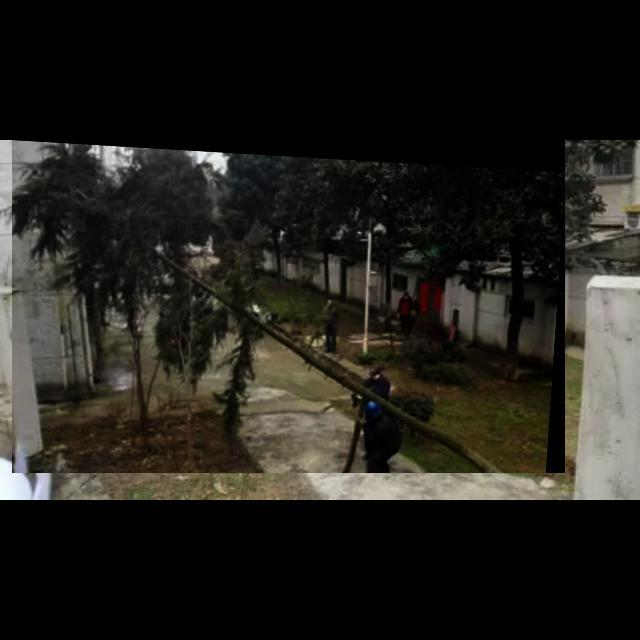fallen_tree: (12, 140, 566, 474)
